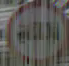Heavy Vehicles: (11, 7, 61, 52)
